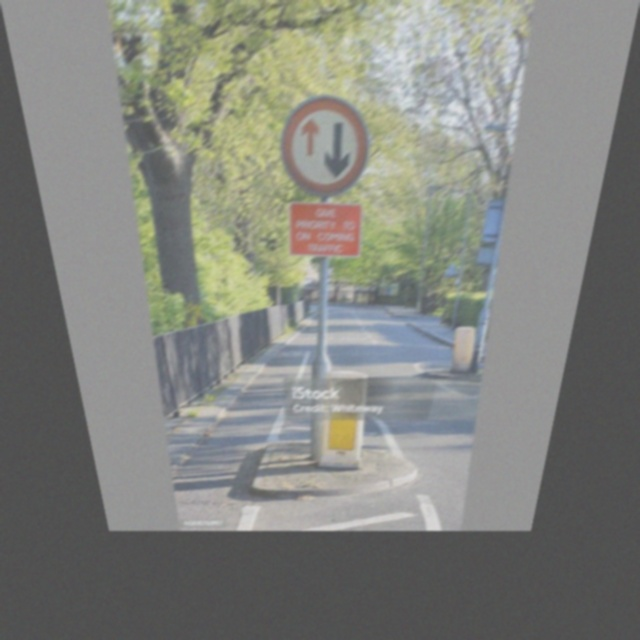Priority_for_Oncoming_Traffic: (282, 97, 370, 195)
